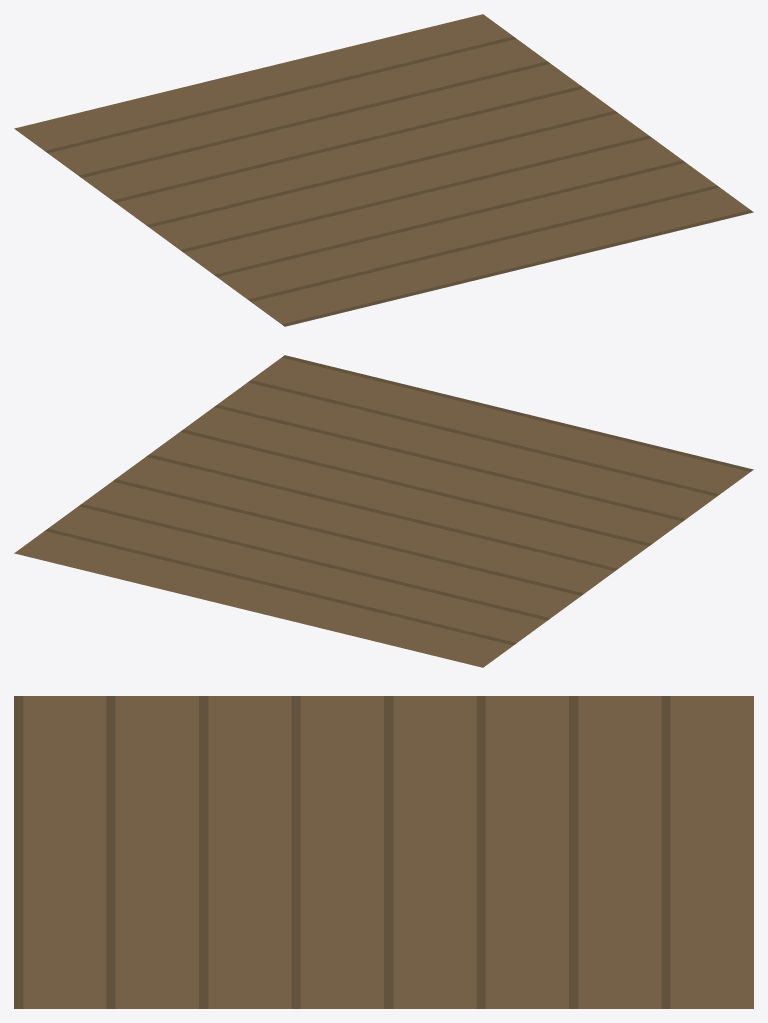
File: AI_Env_Floor_02_Blank.fbx
The picture shows the model from 3 angles, top to bottom: view 1: azimuth 30°, elevation 25°; view 2: azimuth 150°, elevation 25°; view 3: azimuth 270°, elevation 25°; orthographic projection. The views are drawn at different scales.
Visible parts, largest first — view 1: AI_Env_Floor_02_Blank; view 2: AI_Env_Floor_02_Blank; view 3: AI_Env_Floor_02_Blank.
Part boxes in pixels (box(x1,y1,x2,y2)): AI_Env_Floor_02_Blank: box(14, 14, 753, 326); AI_Env_Floor_02_Blank: box(14, 355, 753, 667); AI_Env_Floor_02_Blank: box(14, 696, 753, 1008).
Bounding box in the file's own units: 5 × 0 × 5.
